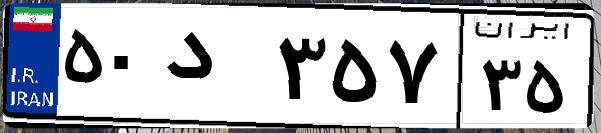0: (110, 28, 158, 98)
3: (270, 28, 330, 110), (475, 38, 525, 113)
5: (330, 28, 385, 110), (57, 26, 110, 100), (525, 38, 570, 115)
7: (385, 28, 445, 110)
د: (158, 20, 270, 120)
